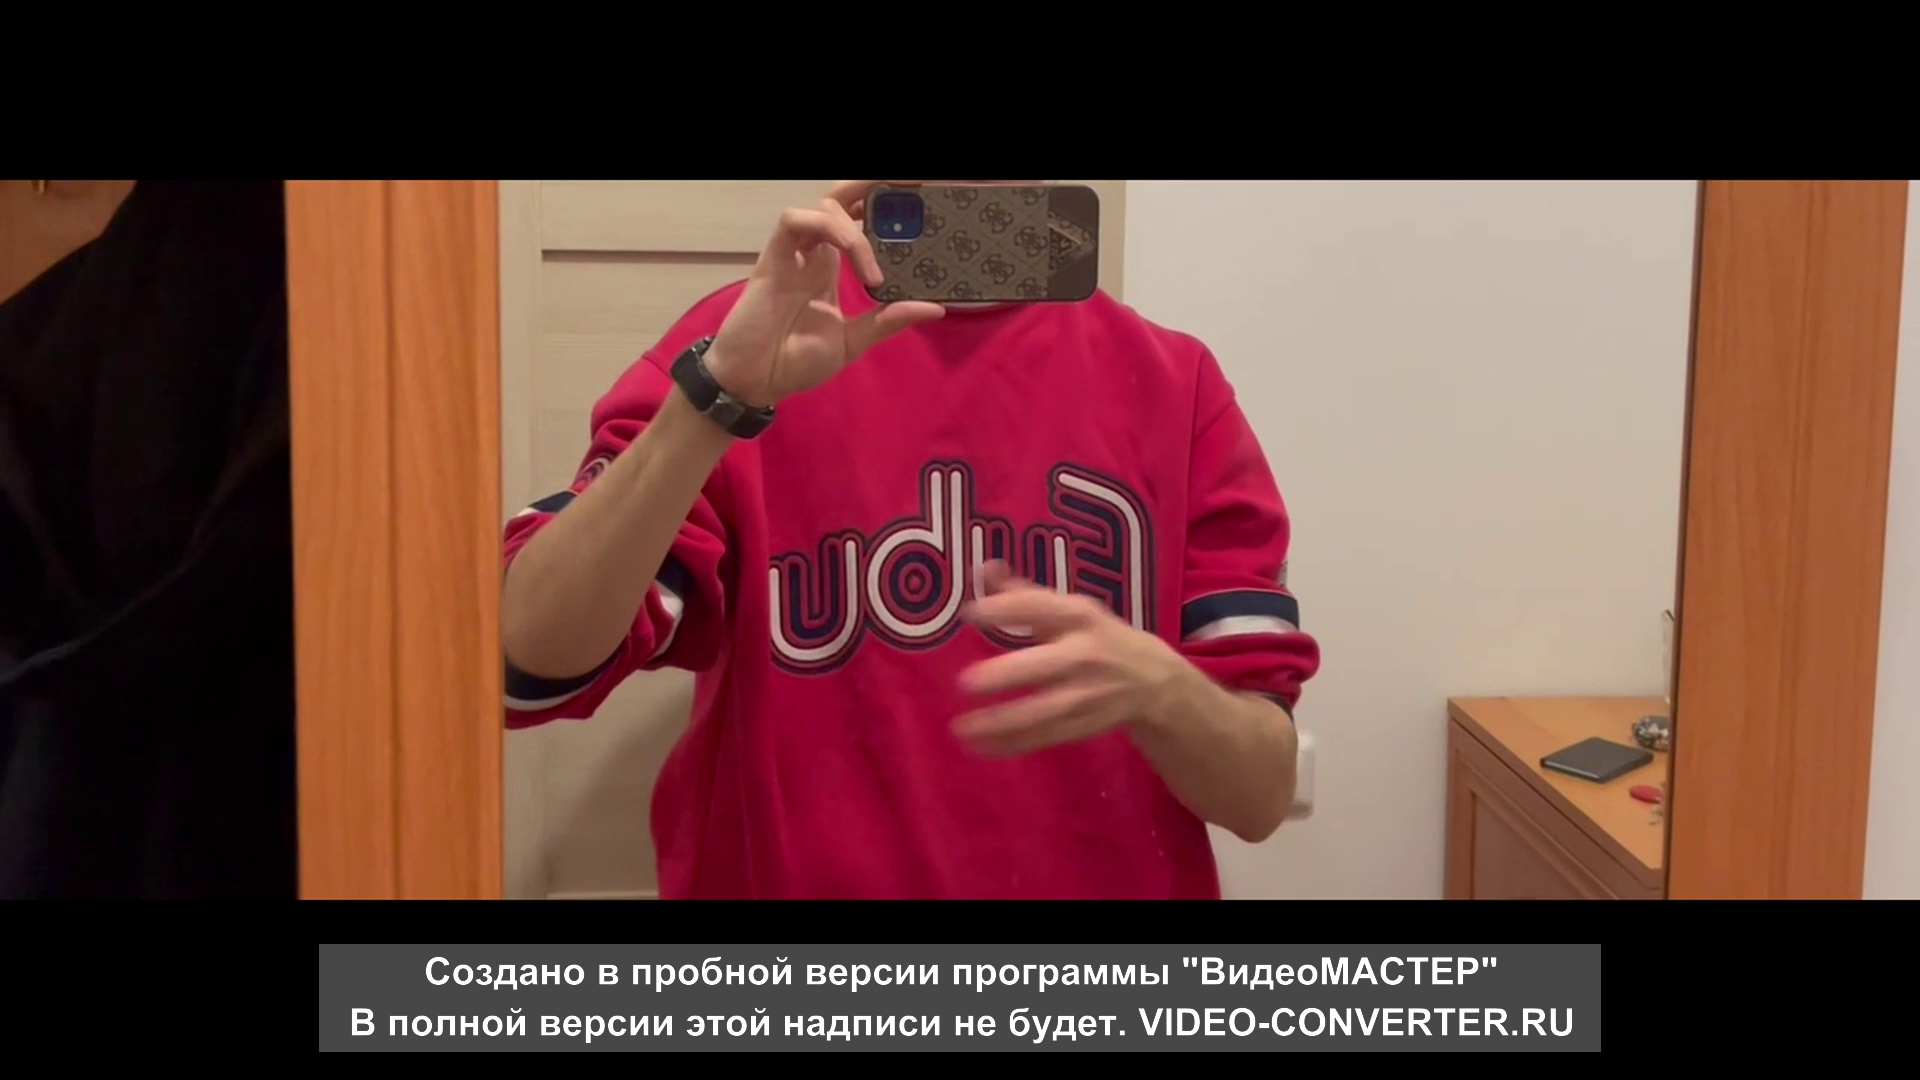Кисть: (952, 562, 1146, 757)
